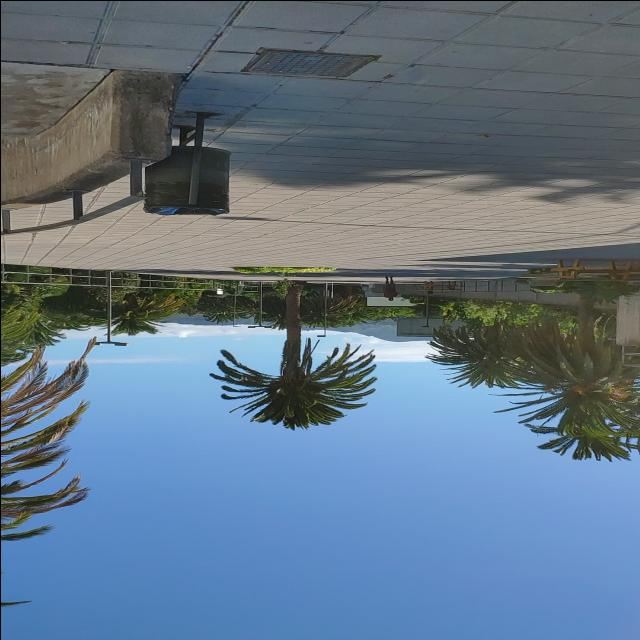Palm-Trees: (209, 280, 373, 430), (509, 285, 640, 435)
